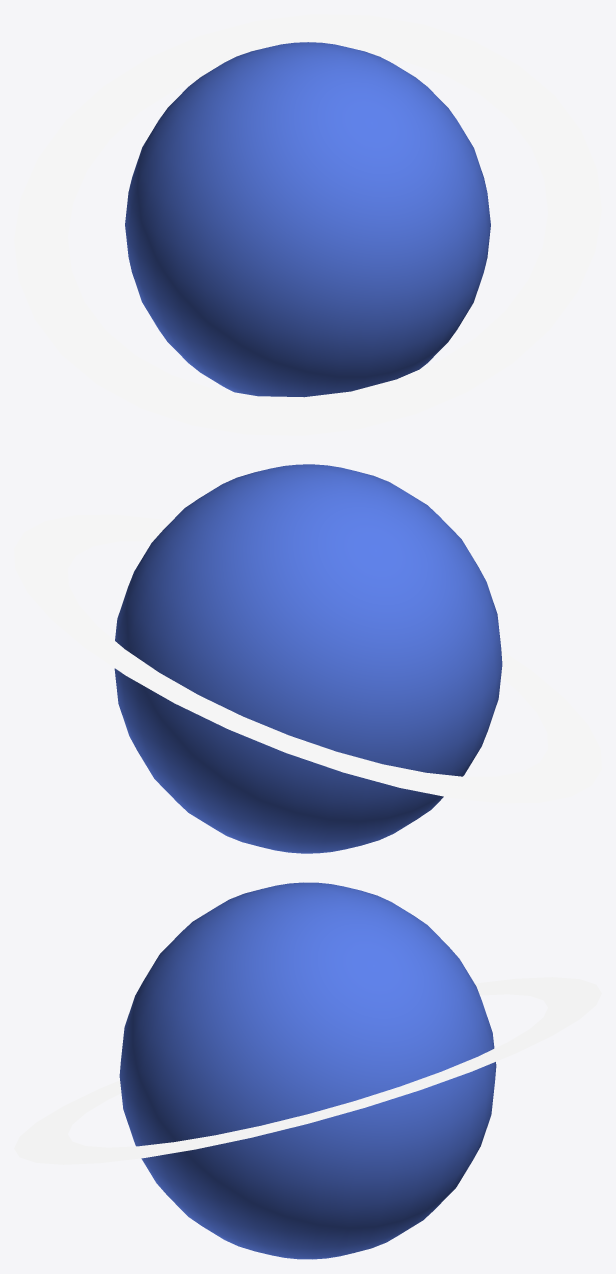
File: nightskysaturn.glb
3 renders of one model, top to bottom at view 1: azimuth 30°, elevation 25°; view 2: azimuth 150°, elevation 25°; view 3: azimuth 270°, elevation 25°, orthographic. The views are drawn at different scales.
Parts seen in each view (by area): view 1: Sphere, Circle; view 2: Sphere, Circle; view 3: Sphere, Circle.
Boxes of the visible parts, x1,y1,x2,y2 form: Sphere: (125,42,490,397); Circle: (14,14,601,435); Sphere: (114,464,502,853); Circle: (14,514,601,803); Sphere: (119,882,496,1259); Circle: (14,977,601,1164).
Size of the model in its own units: 8.01 by 5.14 by 8.01.
